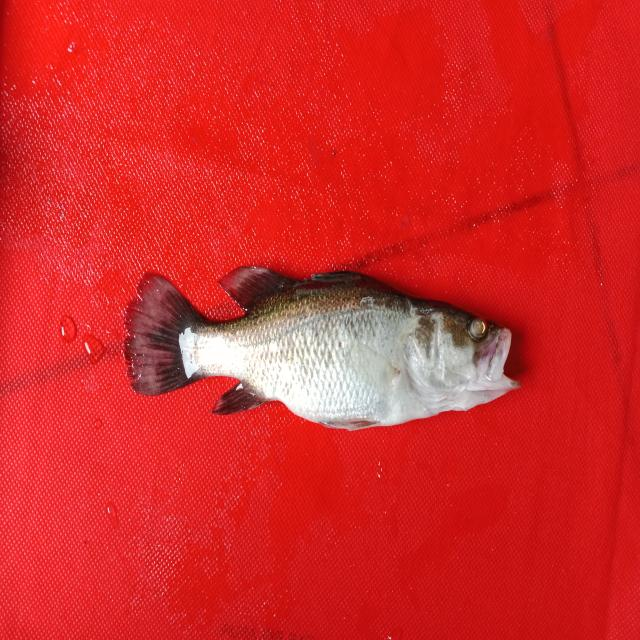ikan: (120, 224, 534, 448)
